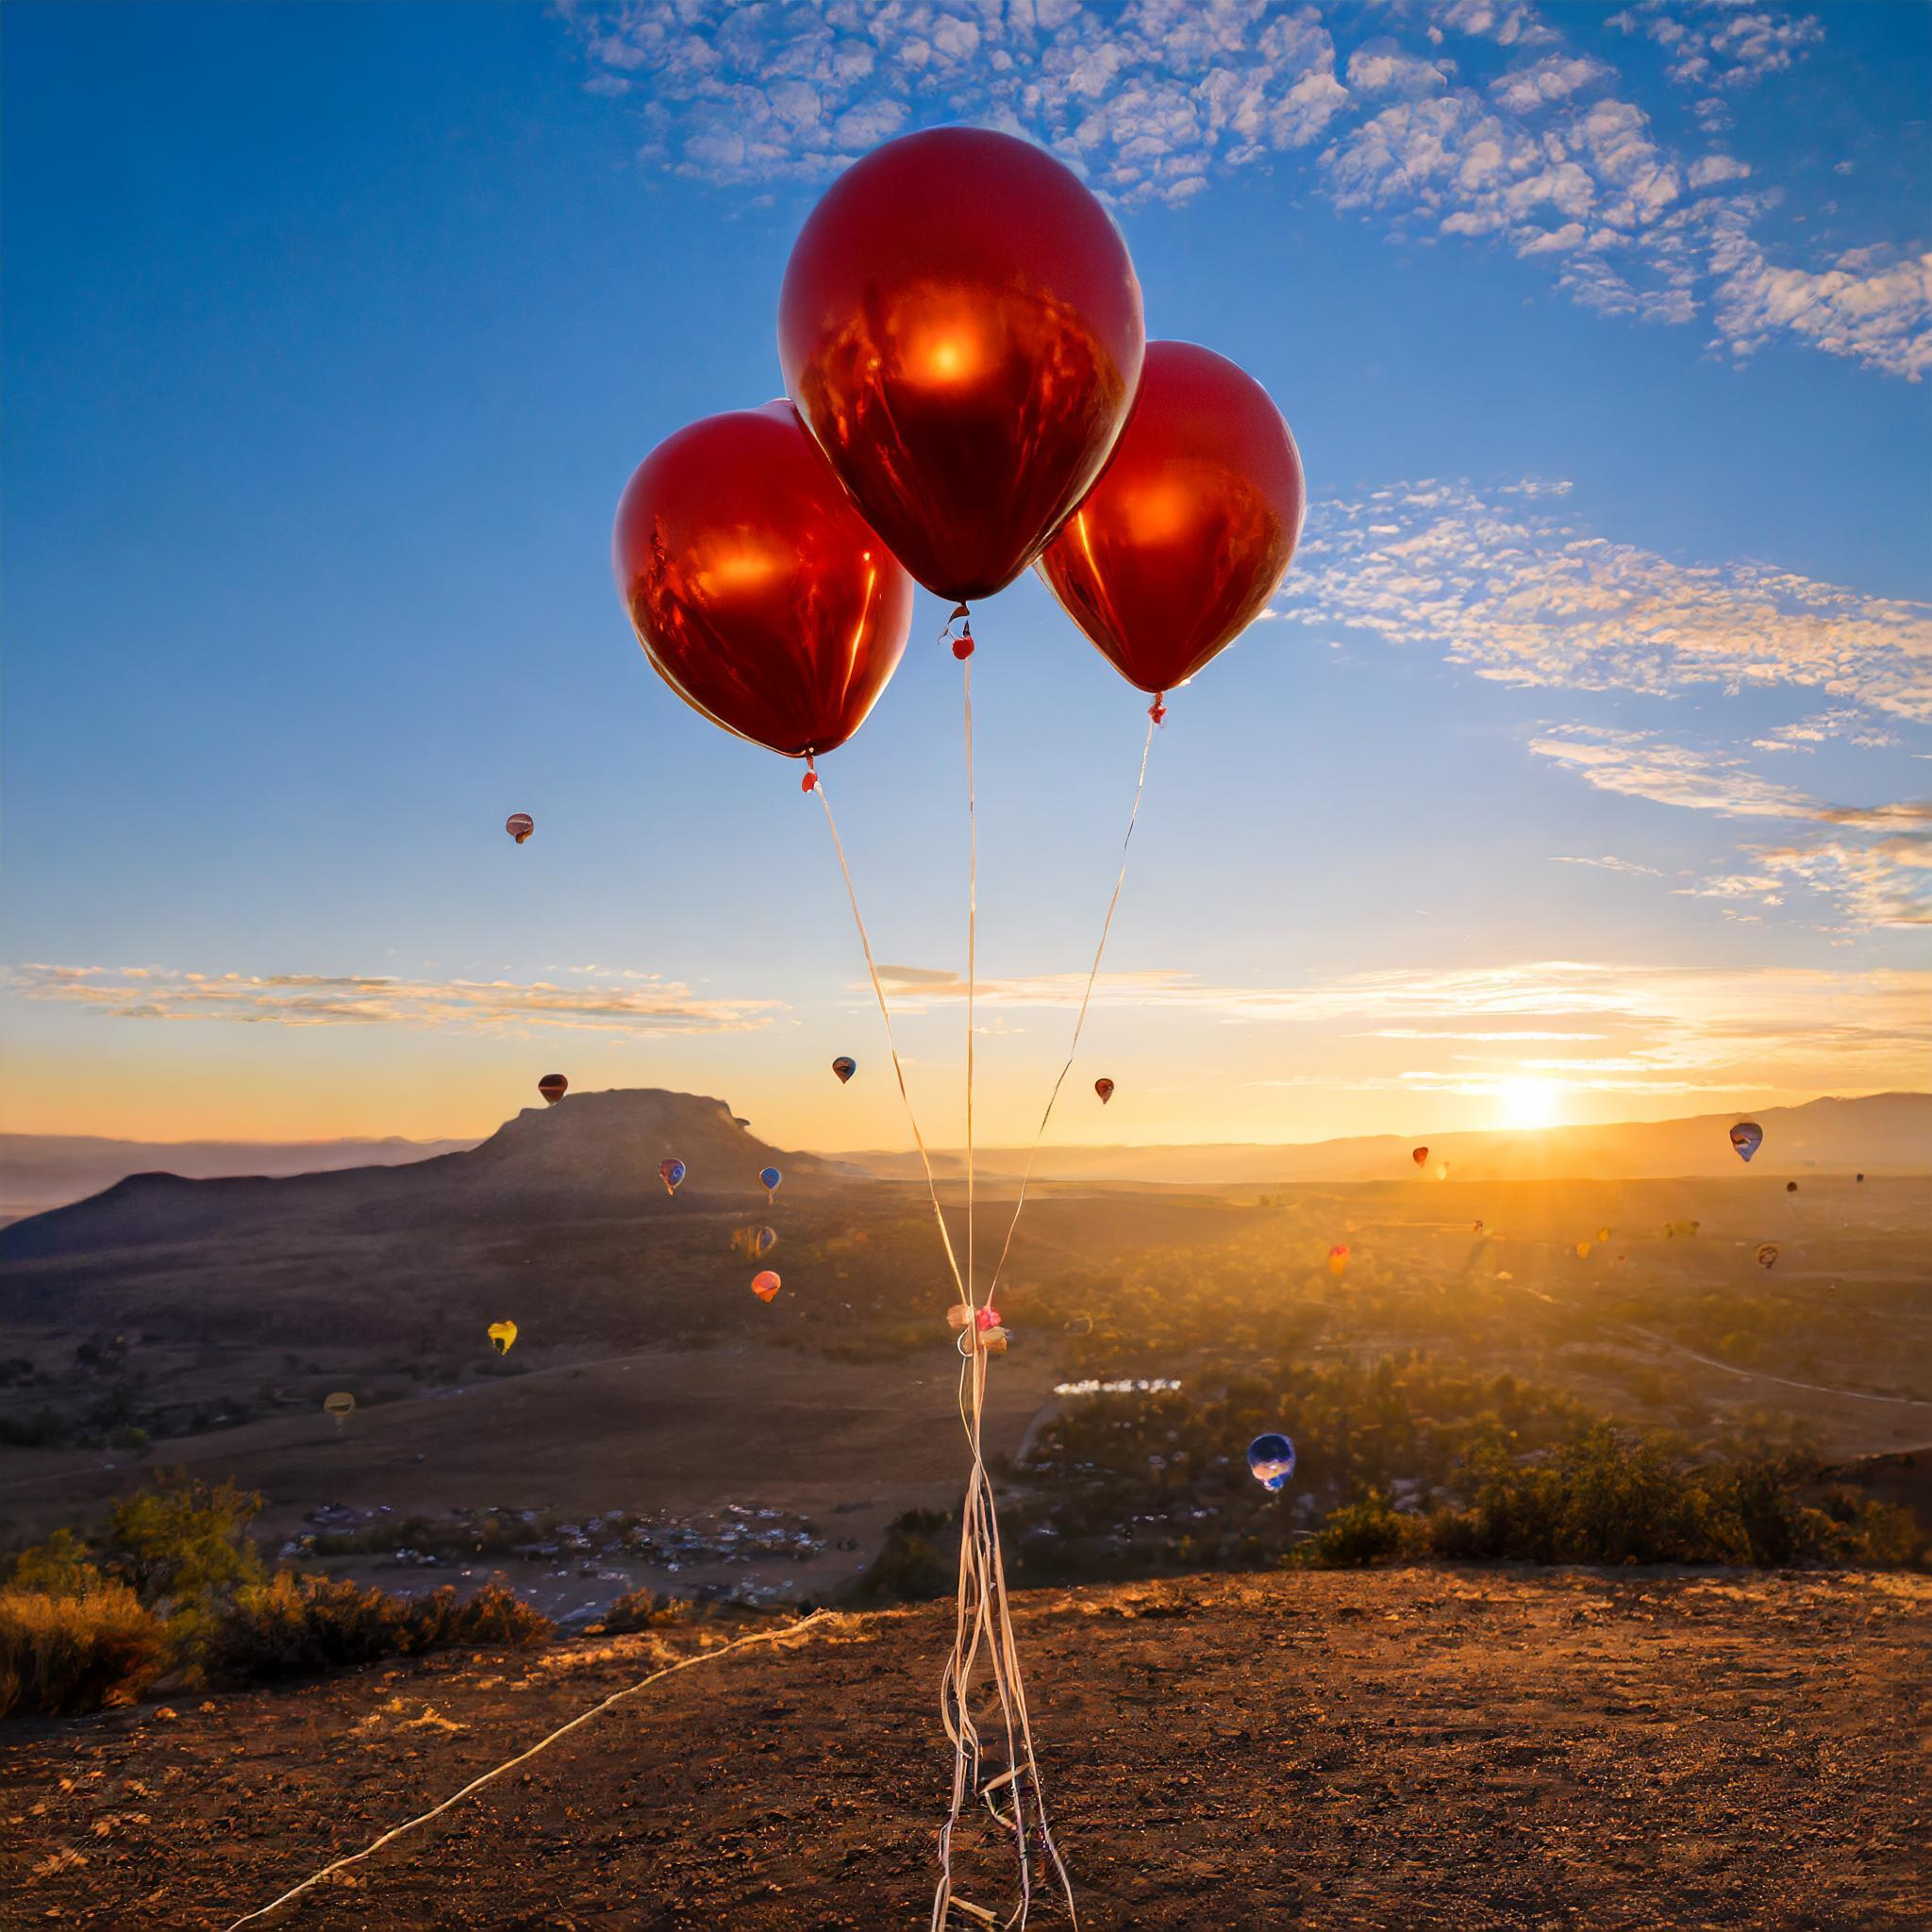red: (770, 110, 1157, 667), (600, 396, 947, 803), (1019, 331, 1322, 732)
